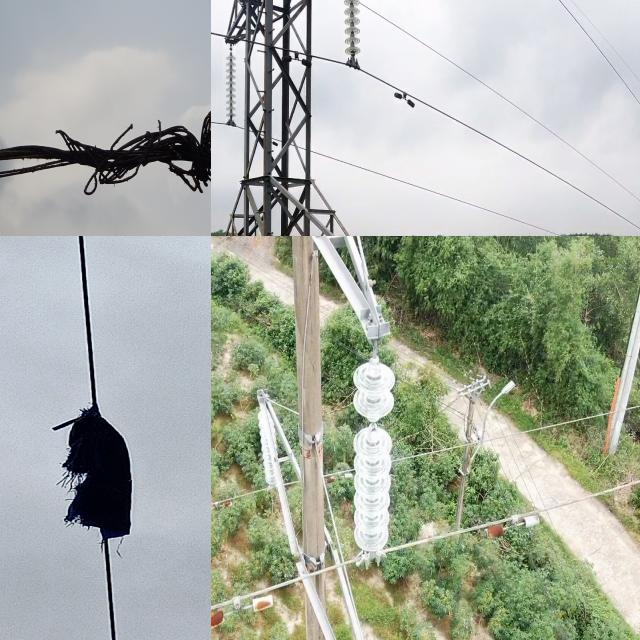杆塔: (211, 0, 370, 236)
植被遮挡: (39, 397, 141, 548)
正常电缆: (211, 466, 640, 620), (211, 398, 640, 519)
正常绝缘子: (348, 343, 402, 575), (257, 408, 281, 485), (221, 38, 240, 132), (339, 0, 364, 66)
电缆破损: (0, 100, 211, 198)
绝缘子破损: (366, 420, 379, 431)
